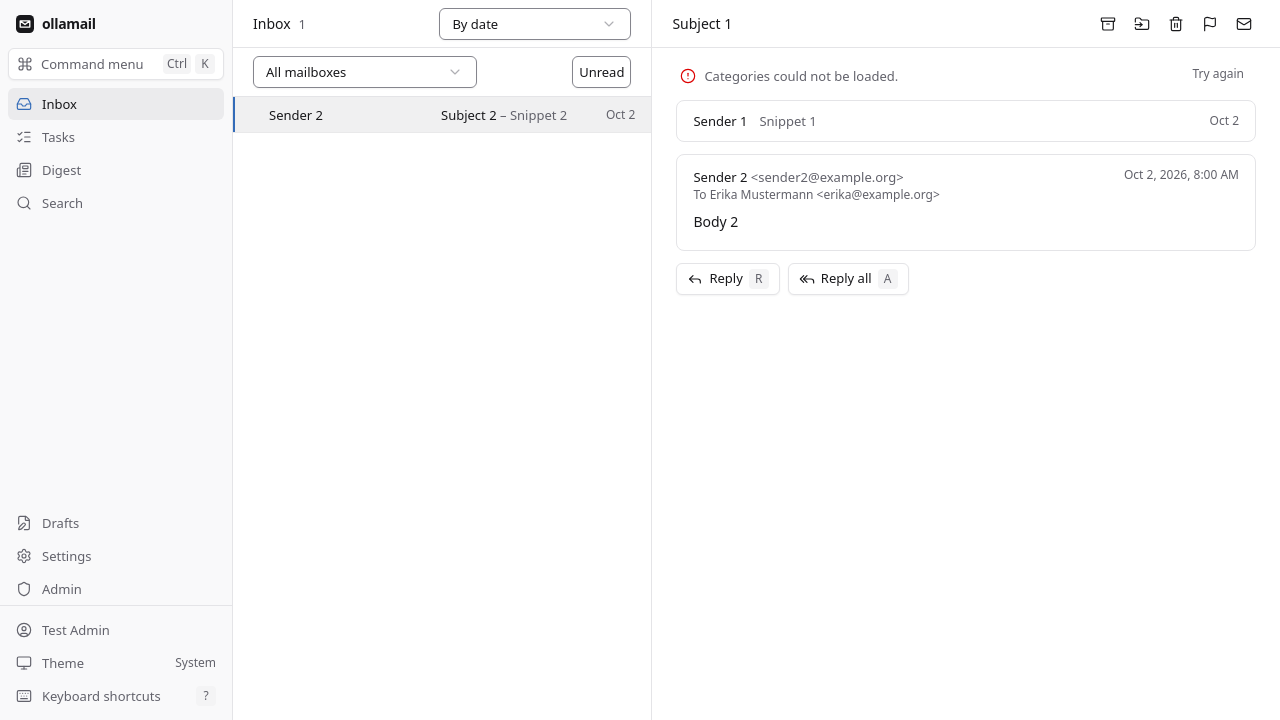
Scenario: inbox › offers a retry when the body of an expanded message fails to load
This screenshot has width=1280, height=720.
Expected: the heading "Inbox" is shown, 253,14 -> 291,34
Step 1. Click the button "Sender 1 Snippet 1 Oct 2" → (720, 121), box 676,100 -> 1256,142
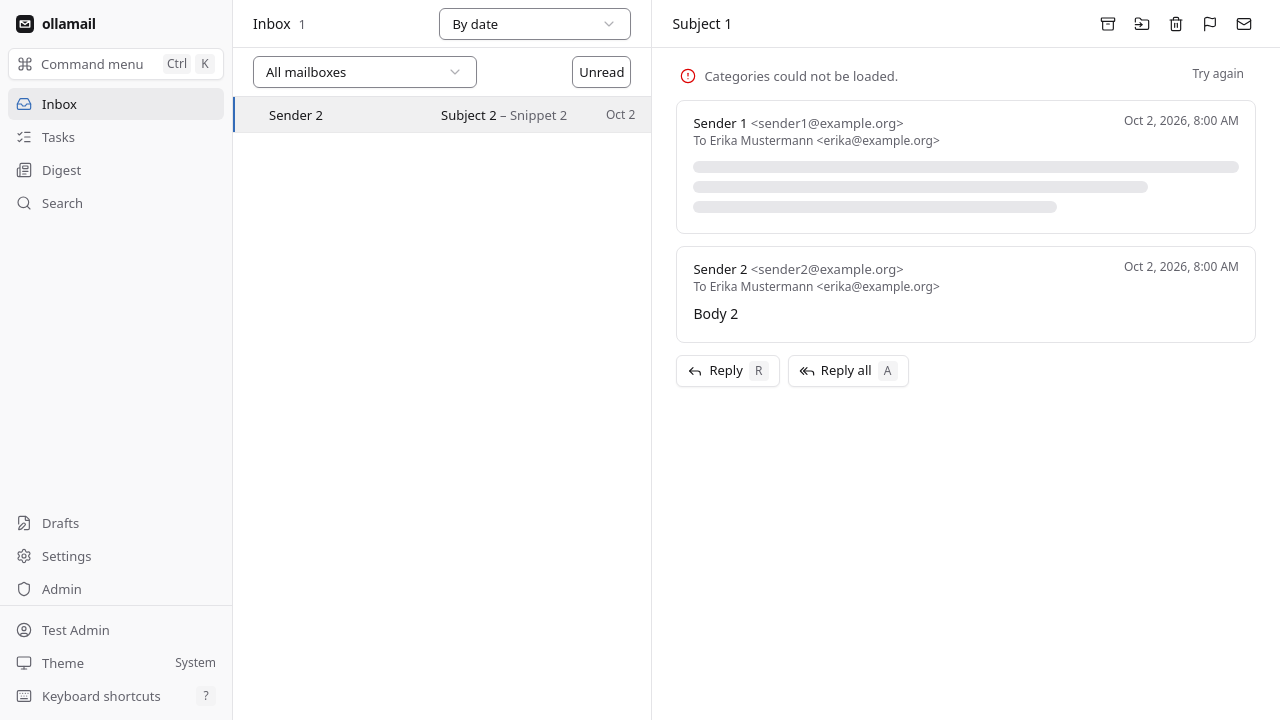
Step 2. Click the button "Try again" → (1218, 74), box 1184,62 -> 1252,86
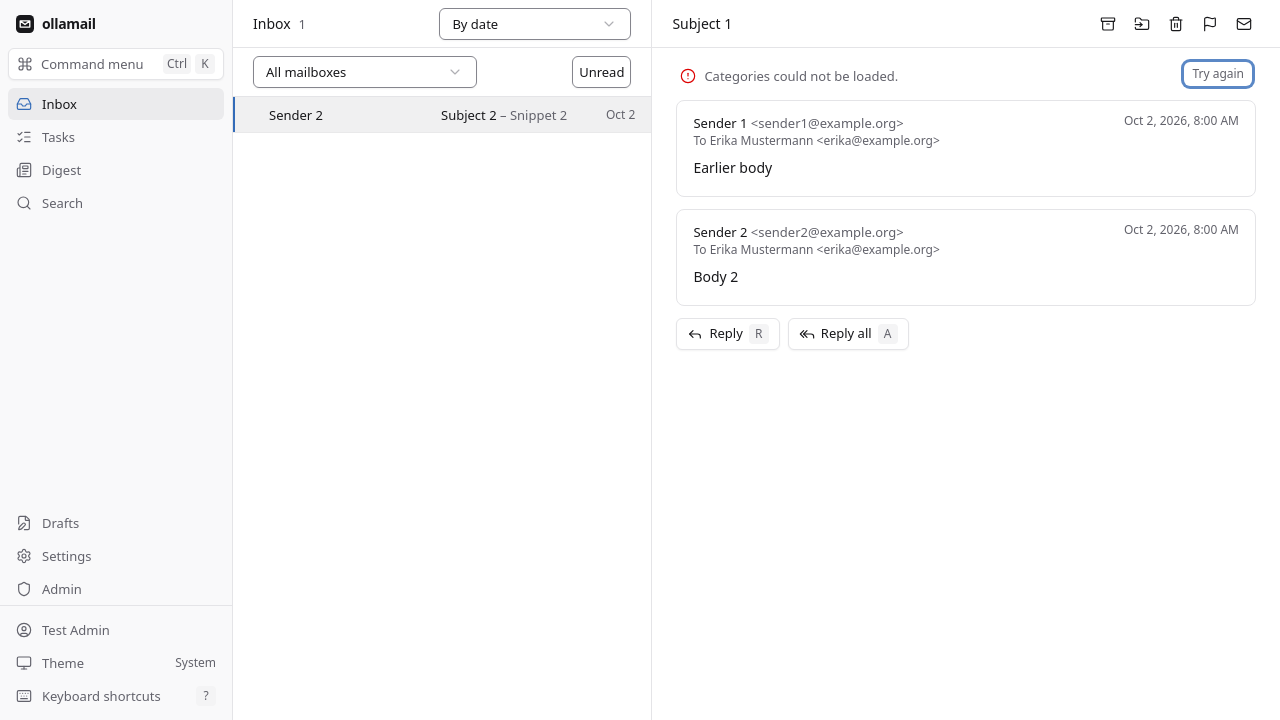
Expected: the text "Earlier body" is shown, 693,158 -> 772,177
